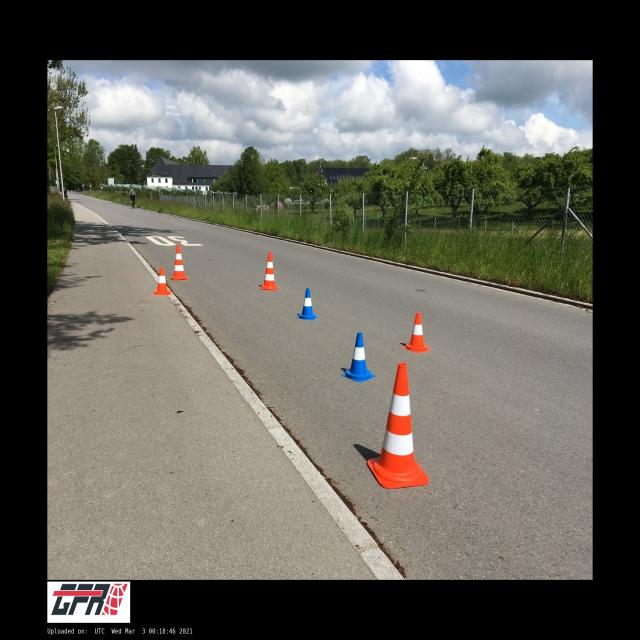blue_cone: (341, 332, 376, 382), (297, 288, 317, 320)
large_orange_cone: (367, 362, 429, 488), (260, 252, 279, 290), (170, 244, 188, 280)
orange_cone: (402, 312, 431, 353), (152, 267, 172, 295)
